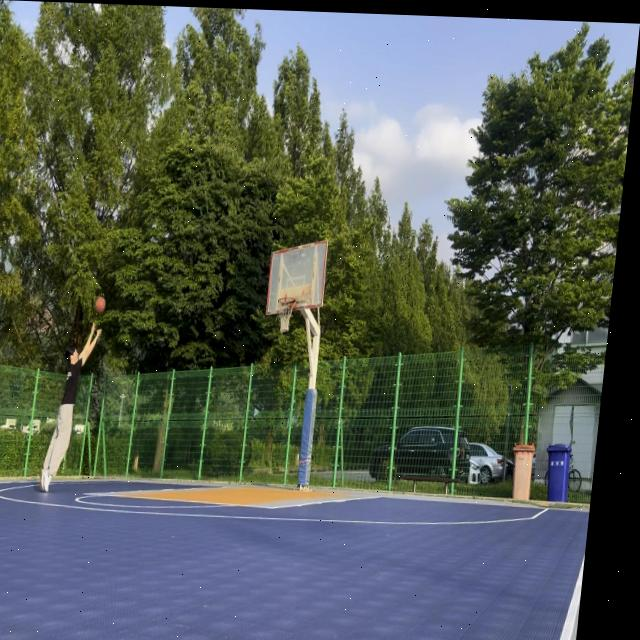basketball: (94, 296, 107, 315)
hoop: (274, 296, 296, 335)
